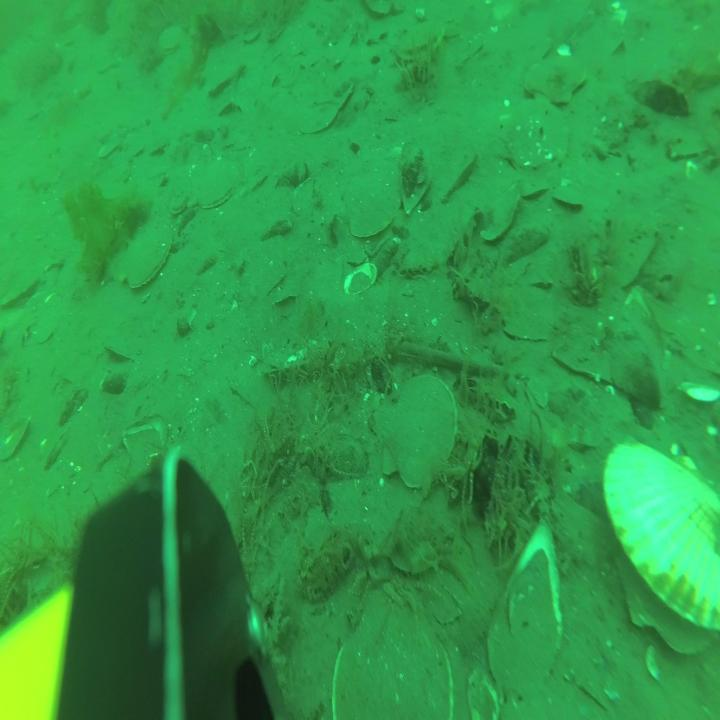scallop: (378, 378, 457, 506), (504, 90, 566, 170), (345, 159, 401, 243), (120, 225, 172, 292), (529, 50, 584, 104), (476, 178, 516, 243), (436, 144, 476, 206), (194, 163, 238, 211), (206, 61, 249, 102), (2, 267, 39, 309), (554, 178, 584, 222), (160, 25, 185, 57), (168, 194, 191, 220)
